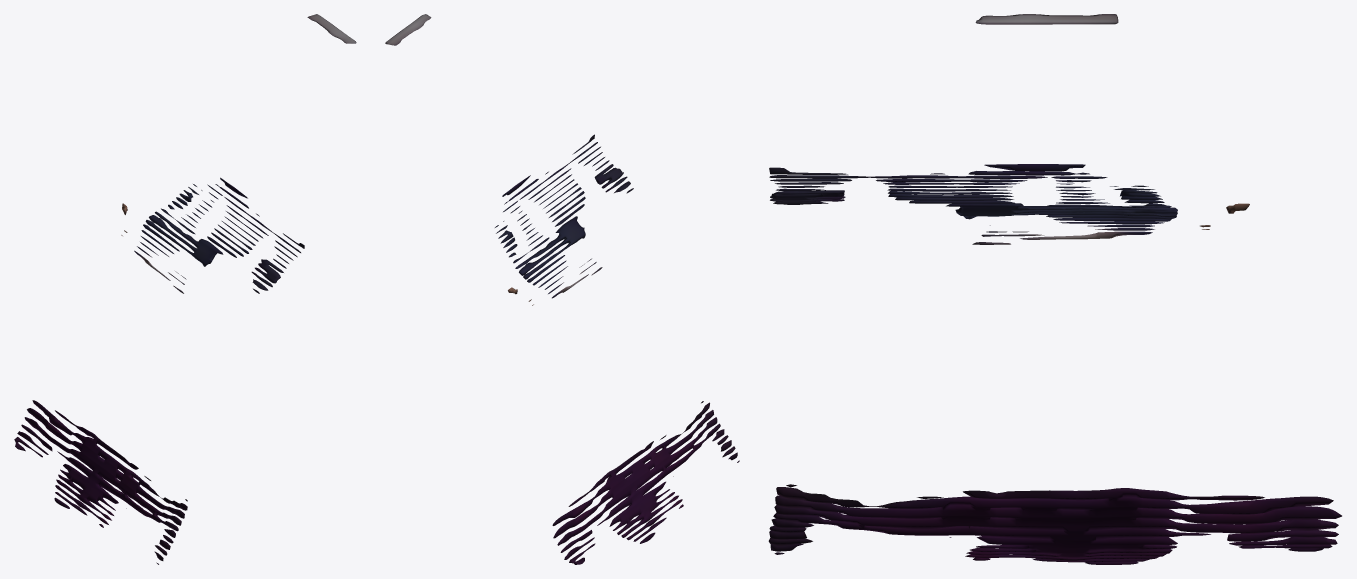
3 renders of one model, left to right at view 1: azimuth 30°, elevation 25°; view 2: azimuth 150°, elevation 25°; view 3: azimuth 270°, elevation 25°, orthographic. The views are drawn at different scales.
Parts seen in each view (by area): view 1: plyFile; view 2: plyFile; view 3: plyFile.
Boxes of the visible parts, bbox=[...] form: plyFile: bbox=[14, 14, 356, 564]; plyFile: bbox=[385, 14, 739, 564]; plyFile: bbox=[768, 14, 1341, 564].
Size of the model in its own units: 126 by 198 by 134.
